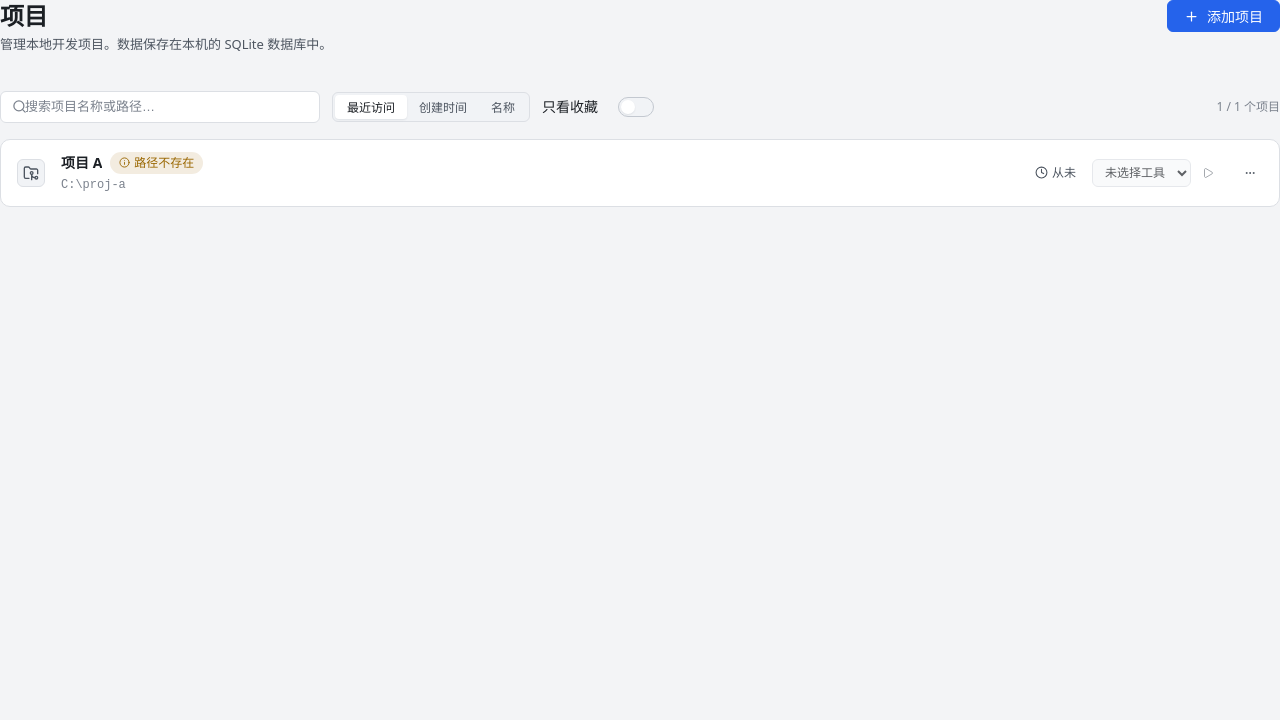
Test case: 项目详情：居中模态弹窗 › 目录不存在时禁用打开文件夹并给出提示
The image size is (1280, 720).
Click the button with aria-label "查看项目详情：项目 A". click: (82, 163)
box: [61,152,1019,194]
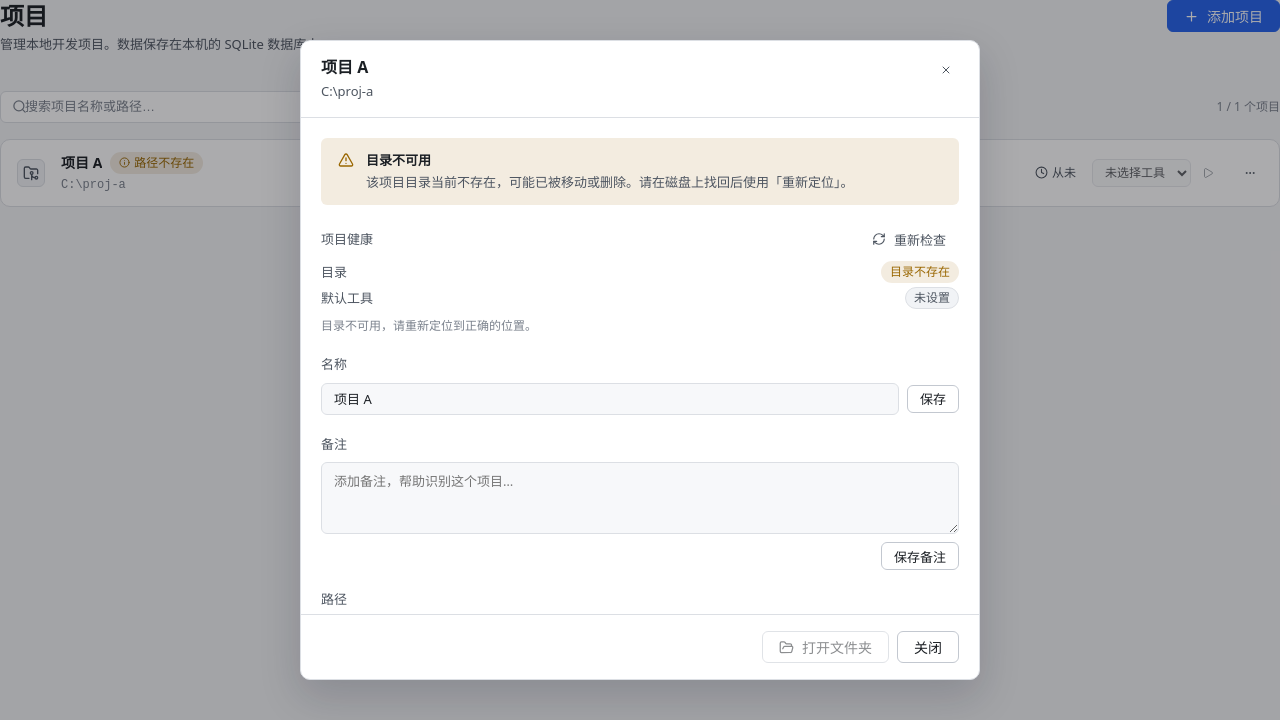
Result: the button "打开文件夹" is disabled at [762,631,889,663]
Result: the text "目录不可用" is shown at [366,151,431,169]
